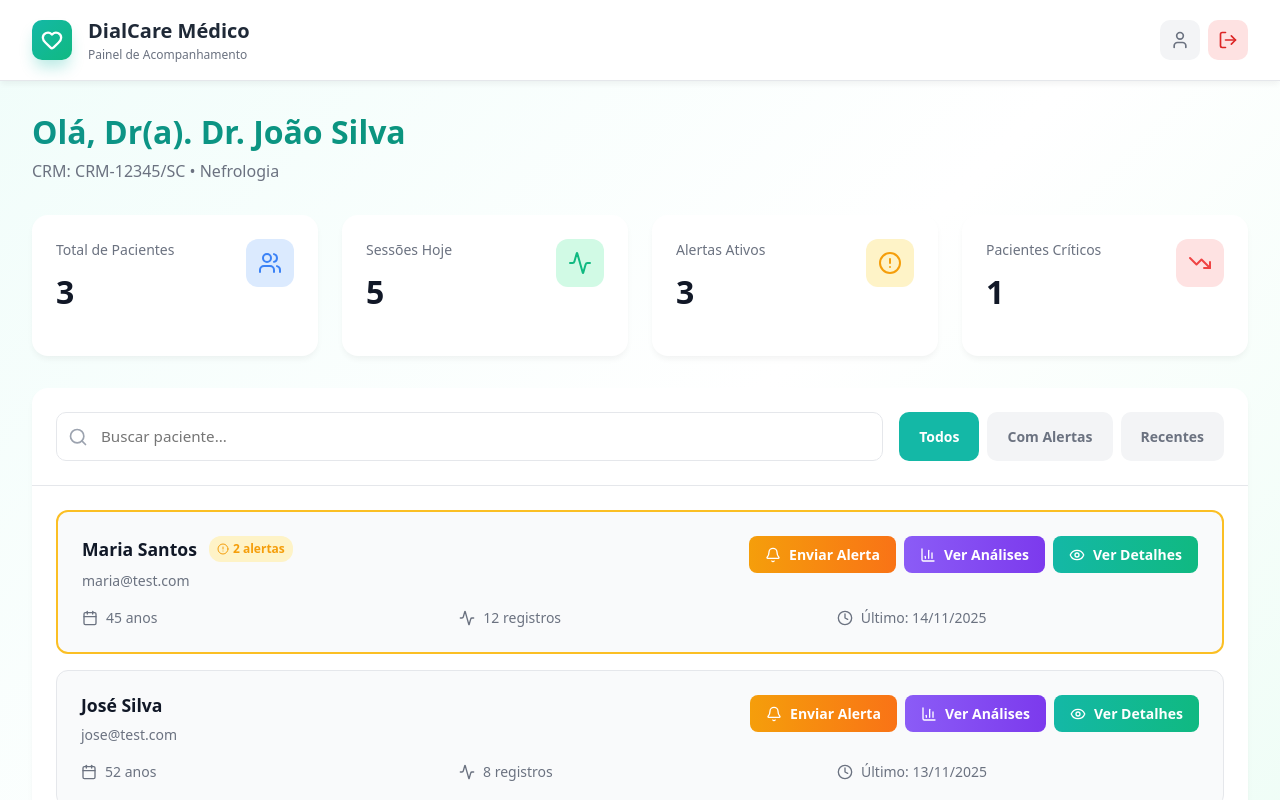
Test: DoctorDashboard › Detalhes do Paciente › deve abrir modal com detalhes ao clicar em "Ver Detalhes"
Expected: the heading "Maria Santos" is shown, top-left (82, 539), bottom-right (197, 560)
Click the button "Ver Detalhes" in the row of "Maria Santos" at [1126, 555], box top-left (1053, 536), bottom-right (1198, 573)
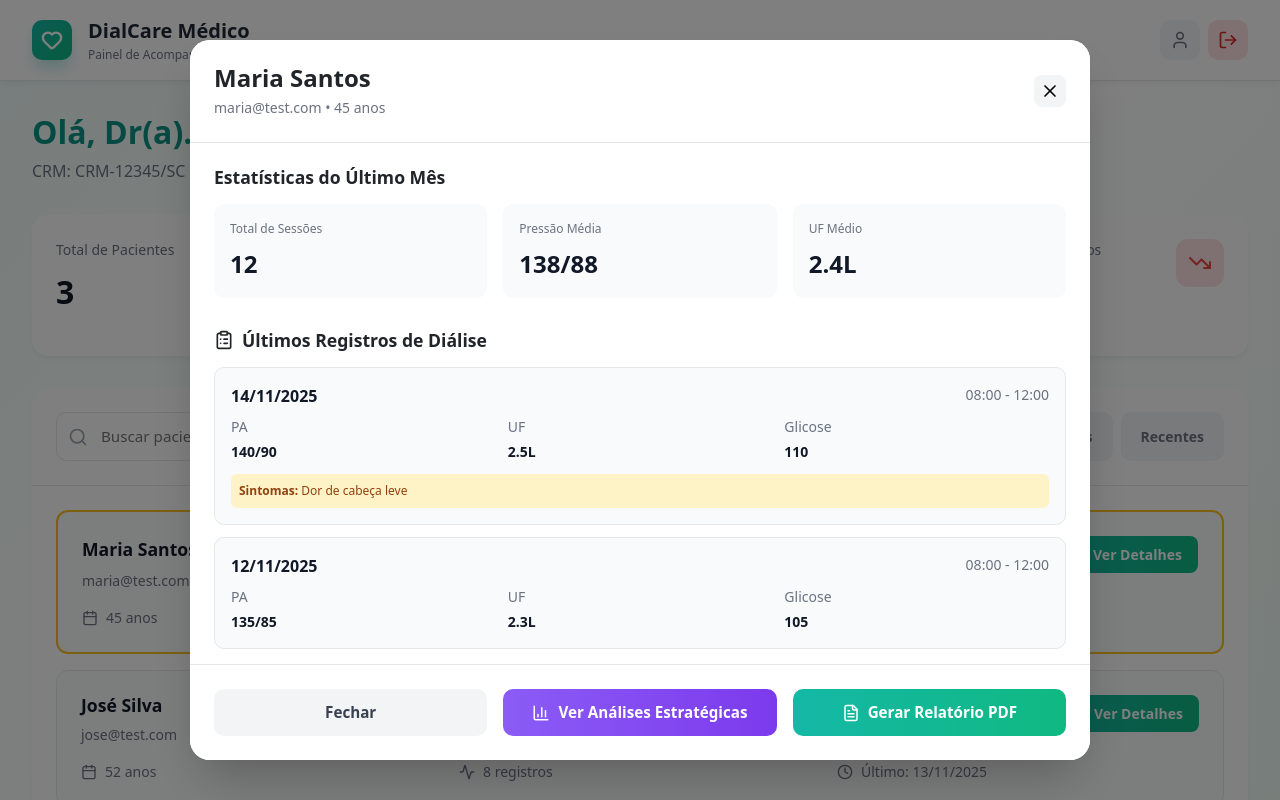
Now the heading "Estatísticas do Último Mês" is shown, box top-left (214, 165), bottom-right (445, 189)
Now the heading "Últimos Registros de Diálise" is shown, box top-left (214, 328), bottom-right (487, 352)
